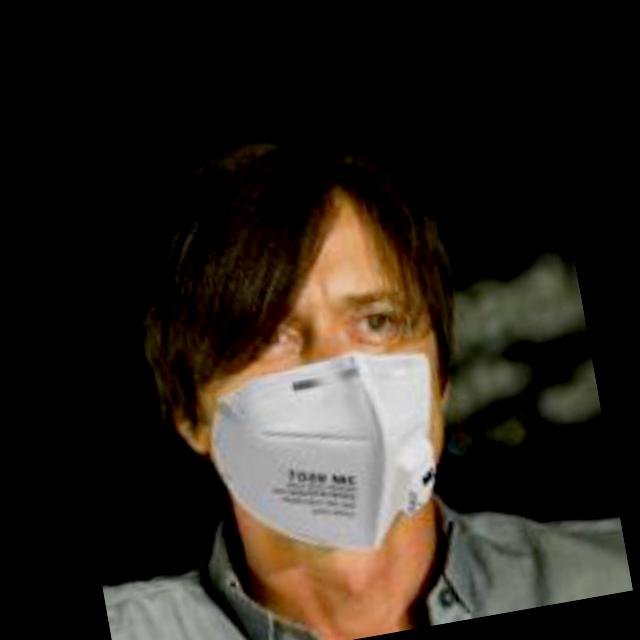suspicion: (150, 152, 468, 544)
